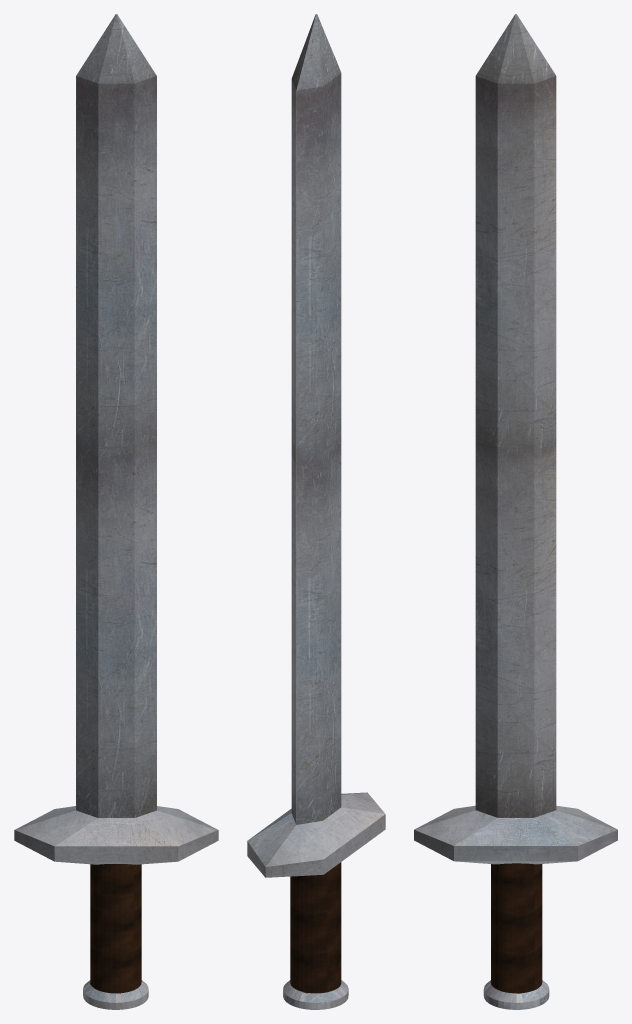
The model's file is IronSwordFinal.fbx.
3 renders of one model, left to right at view 1: azimuth 90°, elevation 25°; view 2: azimuth 150°, elevation 25°; view 3: azimuth 270°, elevation 25°, orthographic.
Parts seen in each view (by area): view 1: Blade; view 2: Blade; view 3: Blade.
Boxes of the visible parts, x1,y1,x2,y2 form: Blade: [14, 14, 218, 1009]; Blade: [247, 14, 385, 1009]; Blade: [414, 14, 617, 1009].
Bounding box in the file's own units: 21.77 × 269 × 50.35.
Materials: 2 (2 with a texture image).
